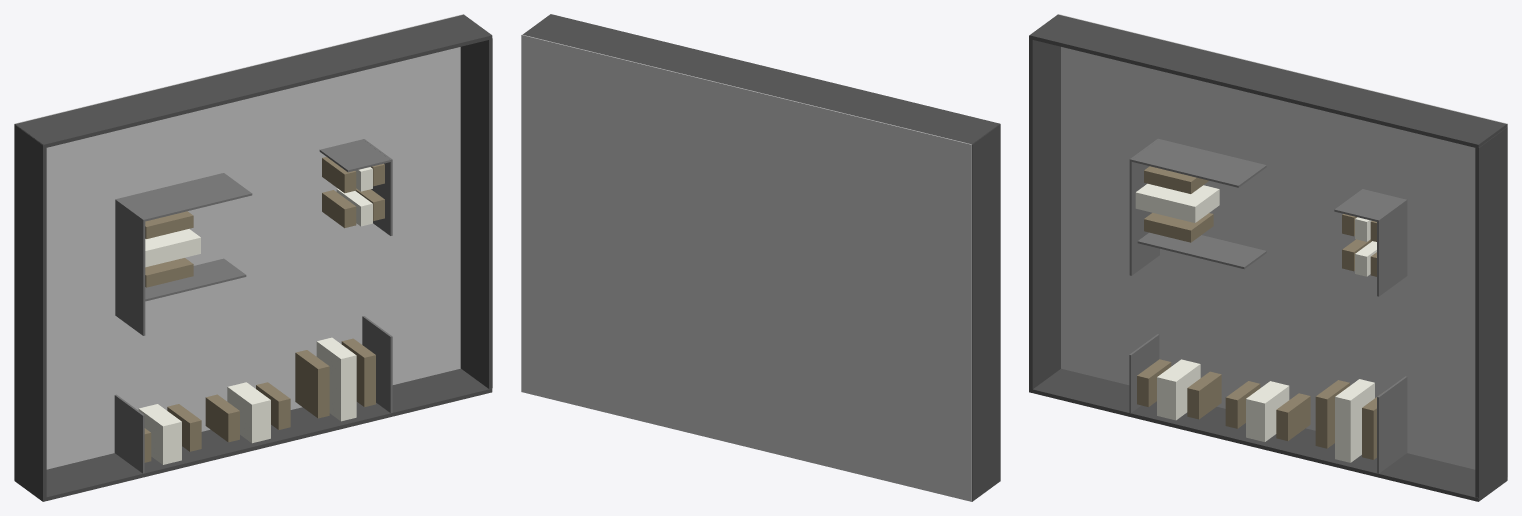
File: map4_merge.obj
3 renders of one model, left to right at view 1: azimuth 30°, elevation 25°; view 2: azimuth 150°, elevation 25°; view 3: azimuth 330°, elevation 25°, orthographic.
Visible parts, largest first — view 1: map; view 2: map; view 3: map.
Boxes of the visible parts, left/top/right/bottom form: map: left=14, top=14, right=492, bottom=501; map: left=521, top=14, right=1000, bottom=501; map: left=1029, top=14, right=1507, bottom=501.
Bounding box in the file's own units: 1.88 × 1.43 × 0.2092.
